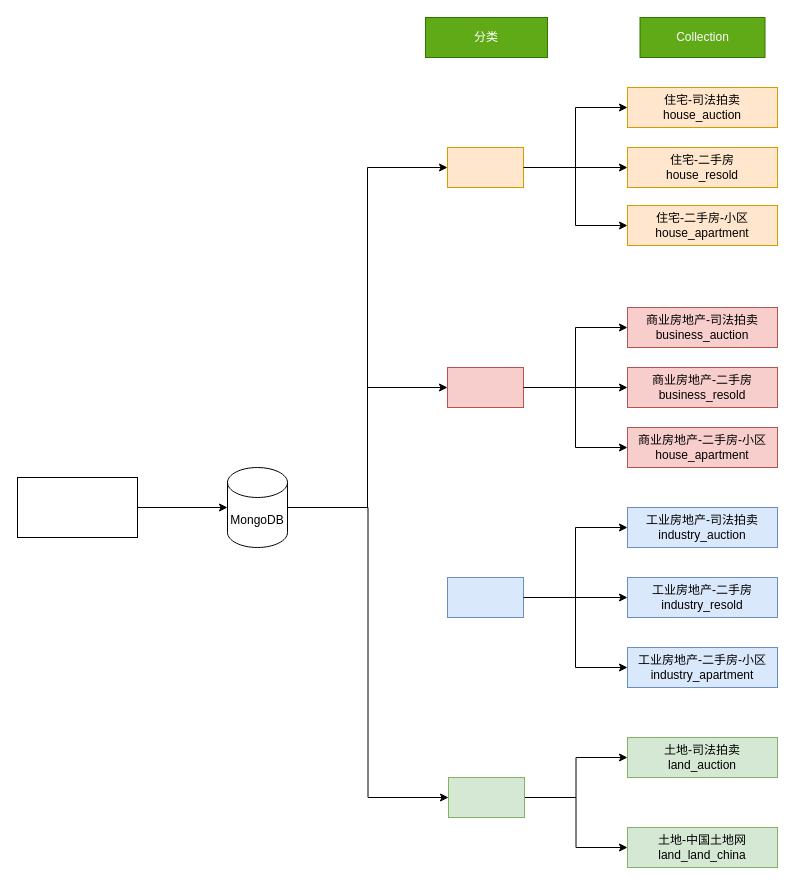
The diagram is 795 pixels wide and 885 high, and some of its shapes have lost their labels. The centre of each missing label's shape, as x and y in pixels:
"估值地图" belongs at pixel 77 507.
"住宅" belongs at pixel 485 167.
"商业房地产" belongs at pixel 485 387.
"土地" belongs at pixel 486 797.
"工业房地产" belongs at pixel 485 597.
